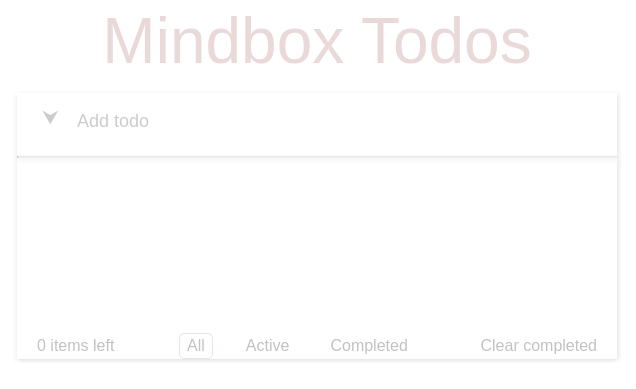
it: Card Component › должен отображать правильное количество активных задач
Type "Task 1" into the field with placeholder "Add todo" at [317, 117], box [17, 101, 617, 133]
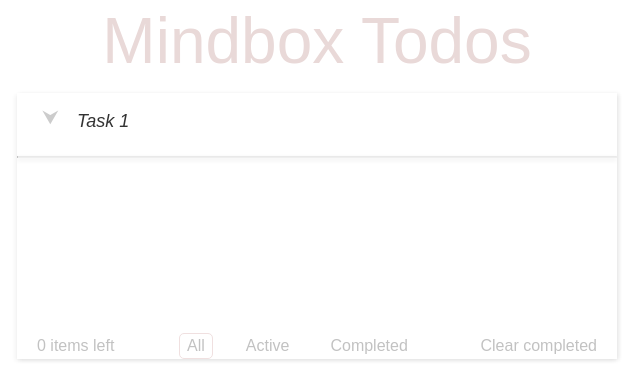
Submit the form with placeholder "Add todo", box [17, 93, 617, 141]
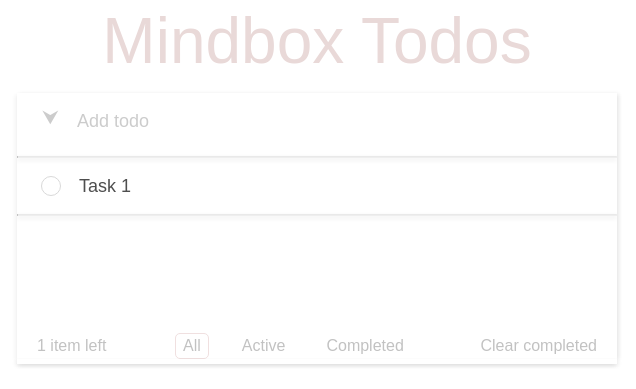
Type "Task 2" into the field with placeholder "Add todo" at [317, 117], box [17, 101, 617, 133]
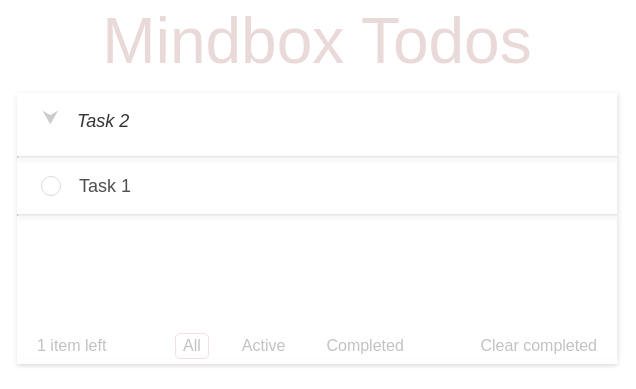
Submit the form with placeholder "Add todo", box [17, 93, 617, 141]
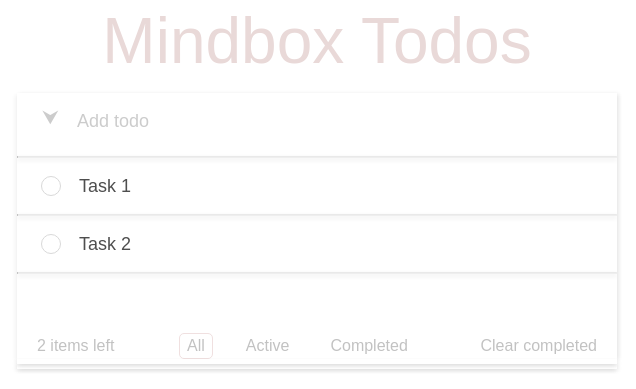
Result: the text "2 items left" is shown at [37, 337, 114, 355]
